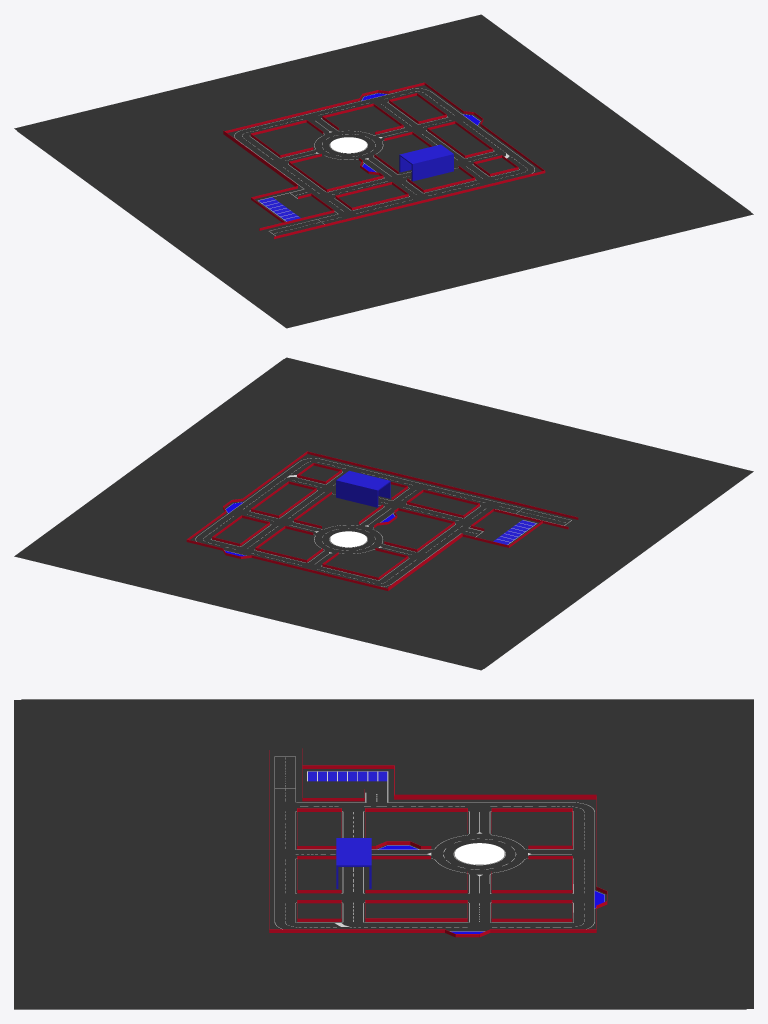
The model's file is RoboTaksiPist2024_1.dae.
3 views of the same model, one above another, from view 1: azimuth 30°, elevation 25°; view 2: azimuth 150°, elevation 25°; view 3: azimuth 270°, elevation 25° (orthographic). The views are drawn at different scales.
Parts seen in each view (by area): view 1: Plane.025, Plane.056, Plane.008, Cube.066, Cube; view 2: Plane.025, Plane.056, Plane.008, Cube.066, Cube; view 3: Plane.025, Plane.056, Plane.008, Cube.003, Cube.066, Plane.026, Plane.016, Plane.015, Plane.010, Plane.039, Plane.031, Plane.002 (+8 smaller).
Boxes of the visible parts, left/top/right/bottom form: Plane.025: left=14, top=14, right=750, bottom=325; Plane.056: left=17, top=131, right=753, bottom=328; Plane.008: left=300, top=125, right=395, bottom=165; Cube.066: left=399, top=144, right=453, bottom=181; Cube: left=274, top=170, right=544, bottom=239; Plane.025: left=14, top=359, right=750, bottom=670; Plane.056: left=285, top=357, right=753, bottom=668; Plane.008: left=302, top=519, right=396, bottom=559; Cube.066: left=336, top=470, right=390, bottom=507; Cube: left=307, top=451, right=578, bottom=519; Plane.025: left=21, top=699, right=753, bottom=1008; Plane.056: left=14, top=700, right=746, bottom=1009; Plane.008: left=409, top=824, right=549, bottom=883; Cube.003: left=394, top=794, right=596, bottom=799; Cube.066: left=336, top=838, right=371, bottom=888; Plane.026: left=431, top=912, right=513, bottom=931; Plane.016: left=319, top=884, right=387, bottom=912; Plane.015: left=445, top=884, right=513, bottom=912; Plane.010: left=274, top=839, right=319, bottom=868; Plane.039: left=274, top=792, right=319, bottom=821; Plane.031: left=550, top=839, right=594, bottom=868; Plane.002: left=274, top=884, right=319, bottom=912.
Bounding box in the file's own units: 200 × 202 × 7.58.
